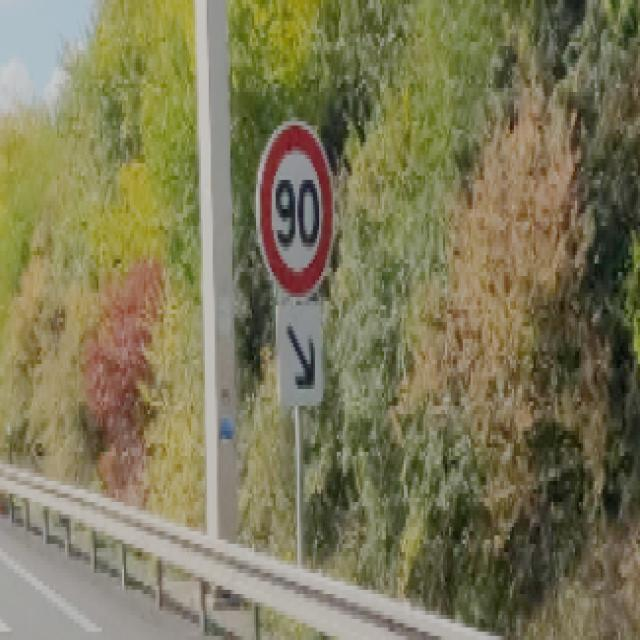speed_90: (255, 116, 335, 297)
